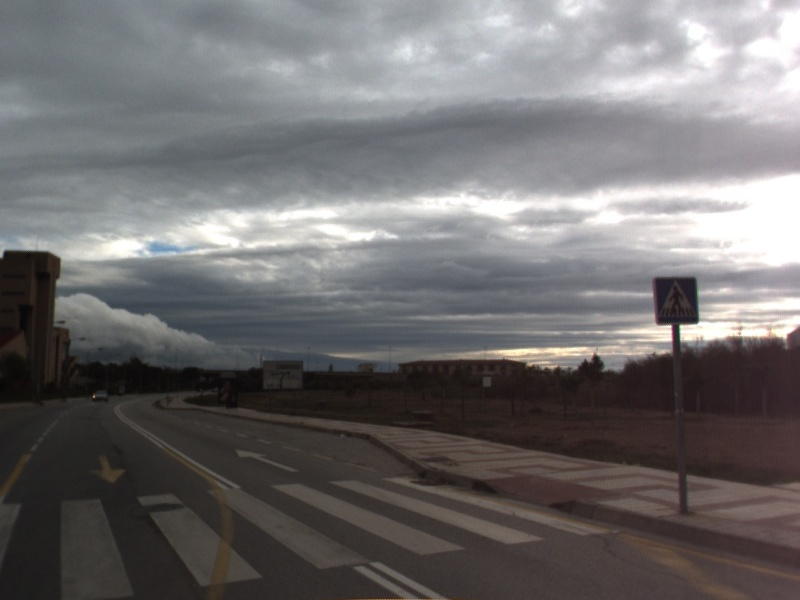STRAIGHT: (234, 447, 301, 474)
